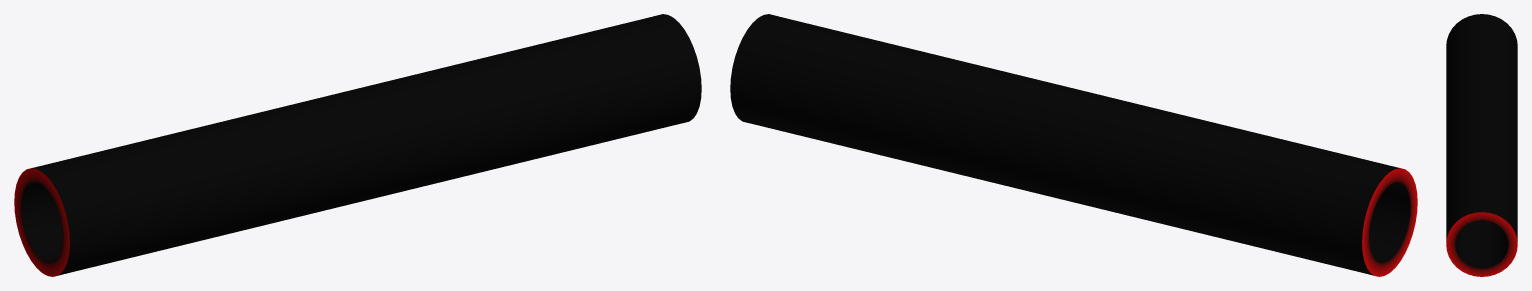
Rendered from Dungeon_Pipe_25m.FBX.
3 renders of one model, left to right at view 1: azimuth 30°, elevation 25°; view 2: azimuth 150°, elevation 25°; view 3: azimuth 270°, elevation 25°, orthographic. The views are drawn at different scales.
Parts seen in each view (by area): view 1: pipe_2_and_half_m; view 2: pipe_2_and_half_m; view 3: pipe_2_and_half_m.
Part boxes in pixels (x1,y1,x2,y2): pipe_2_and_half_m: (14,14,701,276); pipe_2_and_half_m: (730,14,1417,276); pipe_2_and_half_m: (1446,14,1517,276).
Size of the model in its own units: 98.43 by 15.03 by 15.03.
